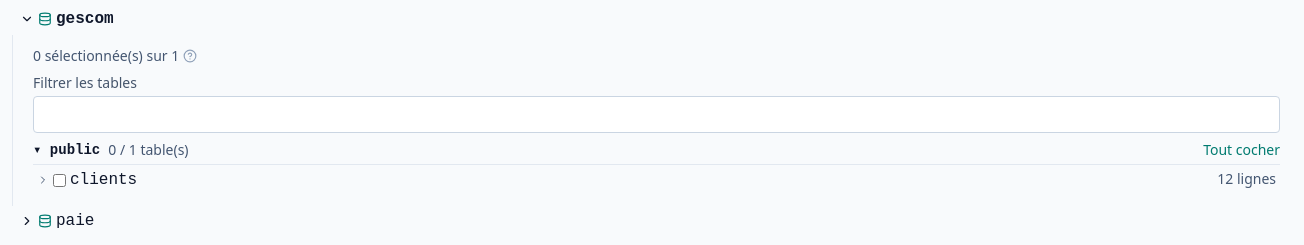
Test: DatabaseTree › replie la base ouverte quand on la reclique
Click the button "gescom" at (85, 19), box [12,4,1292,35]
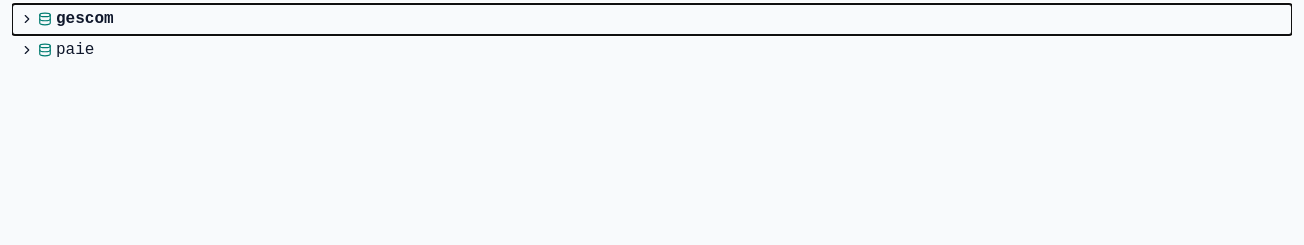
Now the button "clients" is gone
Now the button "gescom" is collapsed, box [12,4,1292,35]
